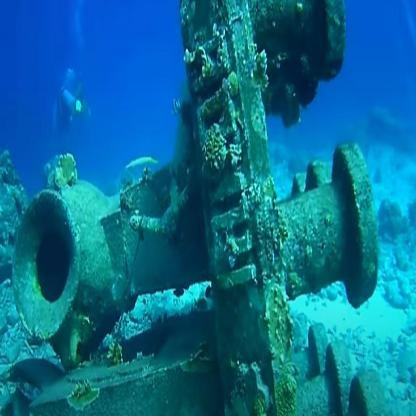metal: (57, 104, 410, 346)
